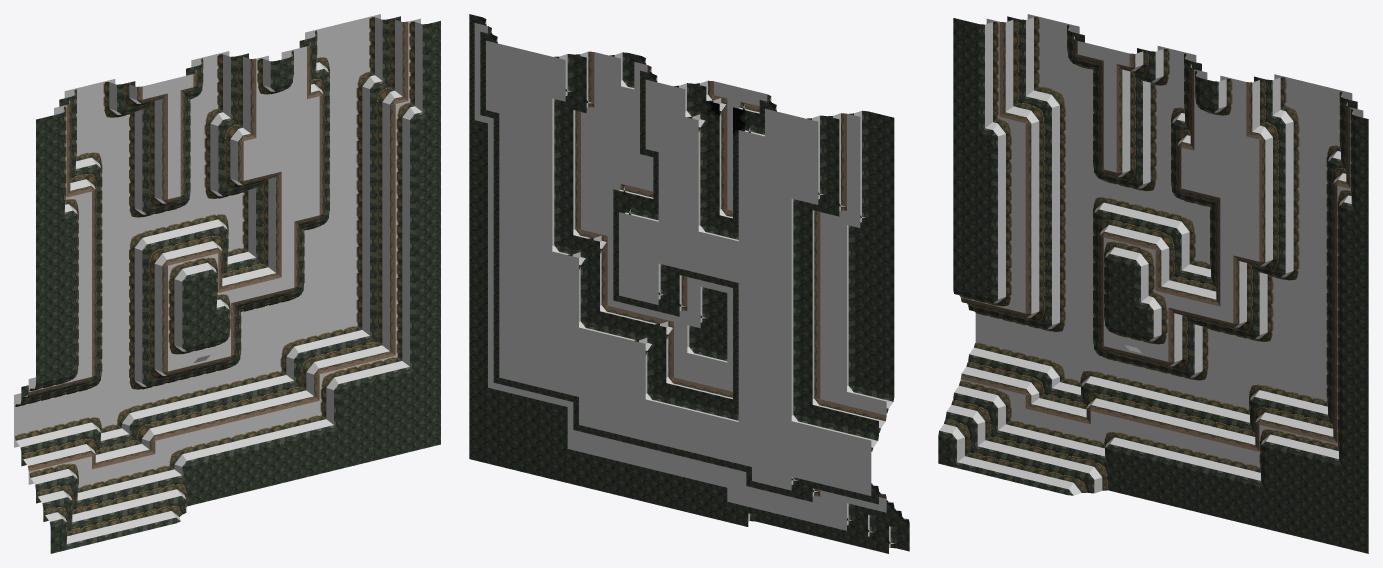
File: Victory-Road-2_02_01.obj
3 renders of one model, left to right at view 1: azimuth 30°, elevation 25°; view 2: azimuth 150°, elevation 25°; view 3: azimuth 330°, elevation 25°, orthographic. The views are drawn at different scales.
Visible parts, largest first — view 1: map; view 2: map; view 3: map.
Boxes of the visible parts, bbox=[...] form: map: bbox=[14, 14, 440, 553]; map: bbox=[469, 14, 909, 553]; map: bbox=[938, 14, 1368, 553].
Size of the model in its own units: 32 by 32 by 5.
